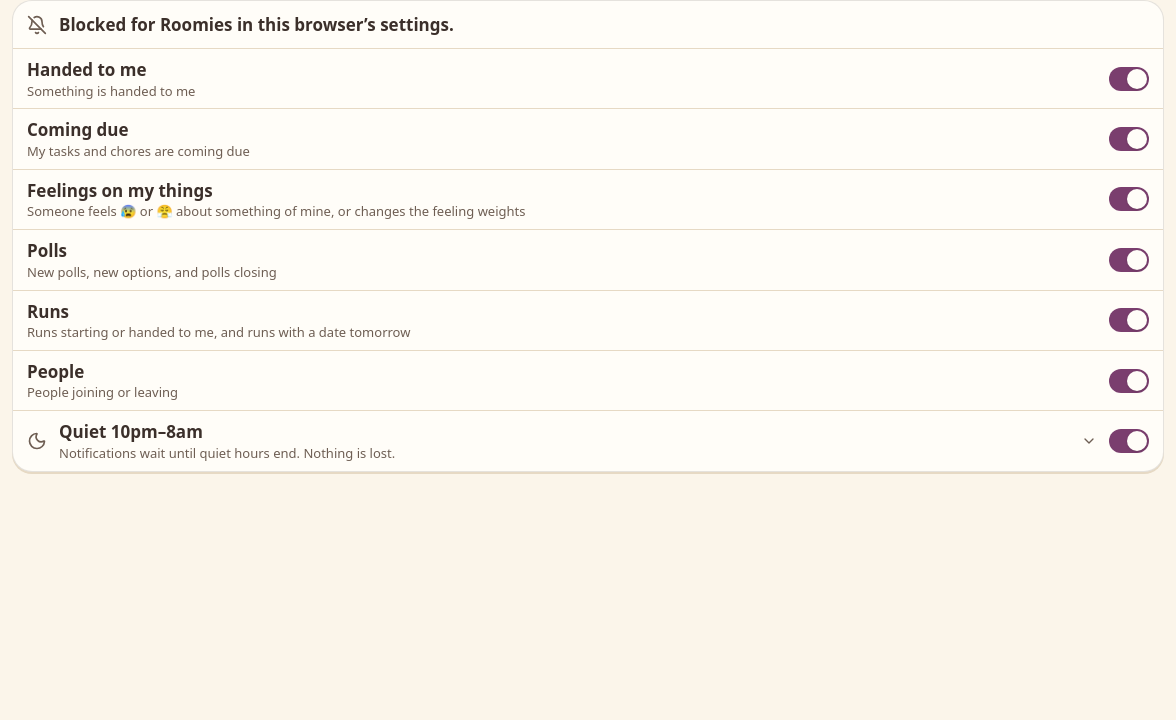
Test: NotificationsScreen (T61: one section) › keeps quiet hours to one row: edit inline, or switch them off
Expected: the field labelled "From" is not shown
Click the button "Quiet 10pm–8am" at (131, 432), box [59,411,1097,471]
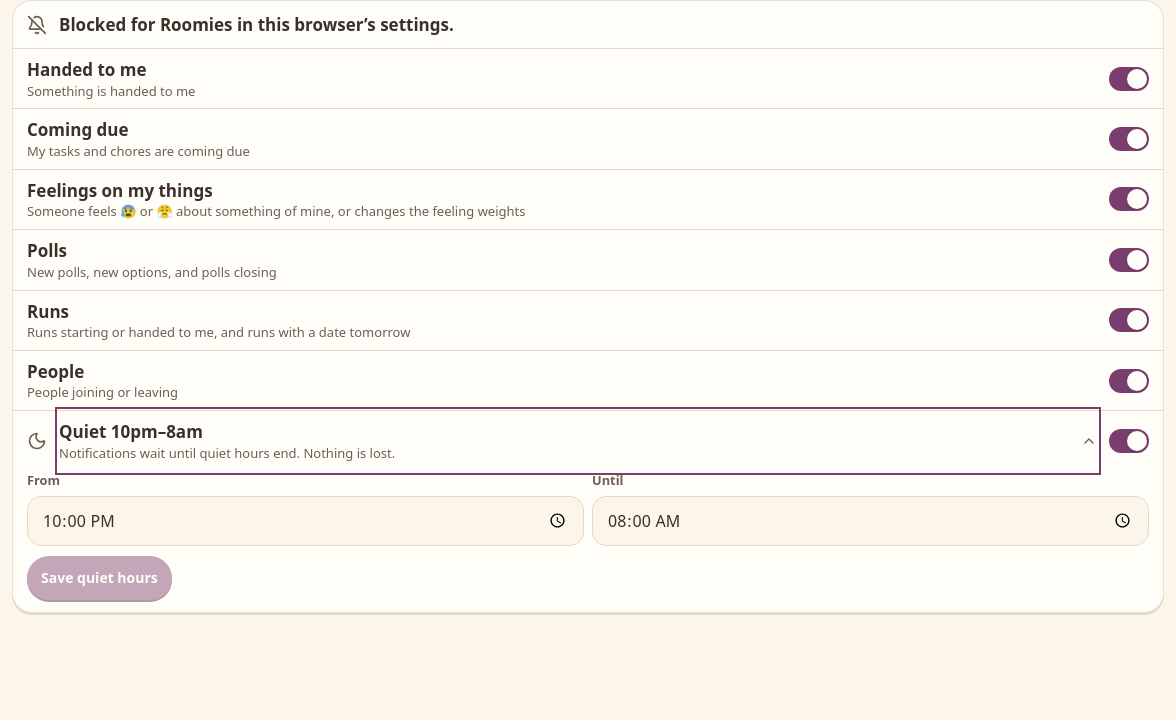
Expected: the button "Quiet 10pm–8am" is expanded, [59,411,1097,471]
Replace the text in the time field labelled "From" with "23:00" at (306, 521), box [27,496,584,546]
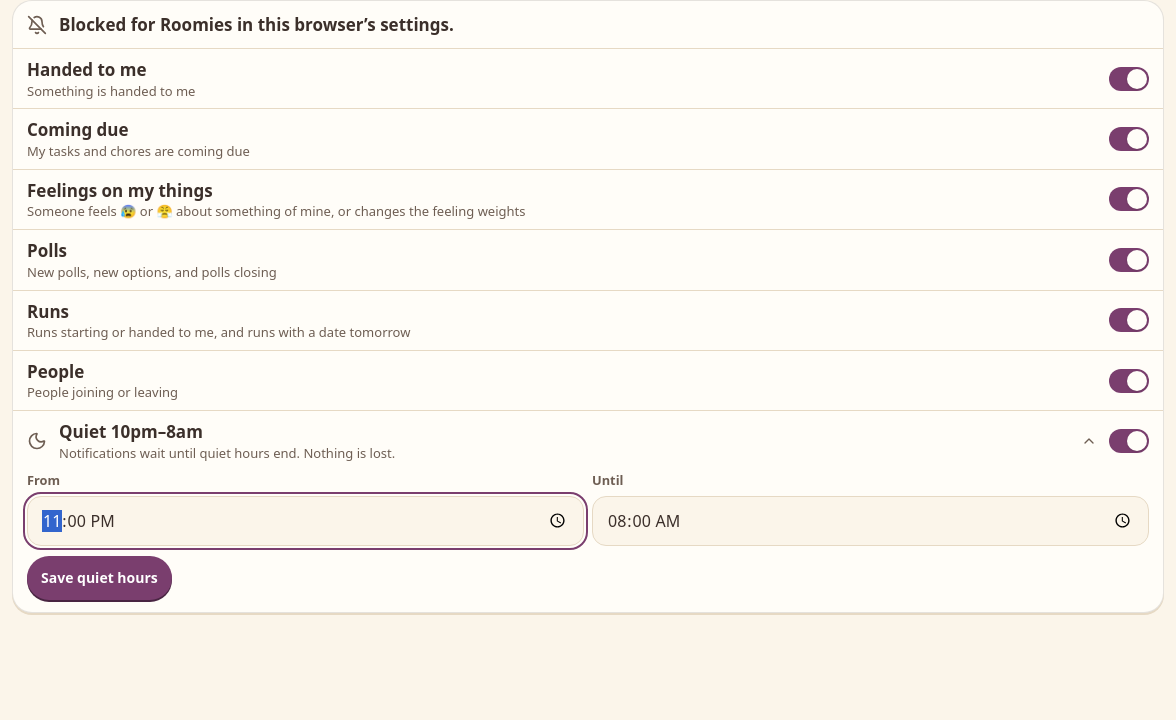
Click the button "Save quiet hours" at (99, 578), box [27,556,172,600]
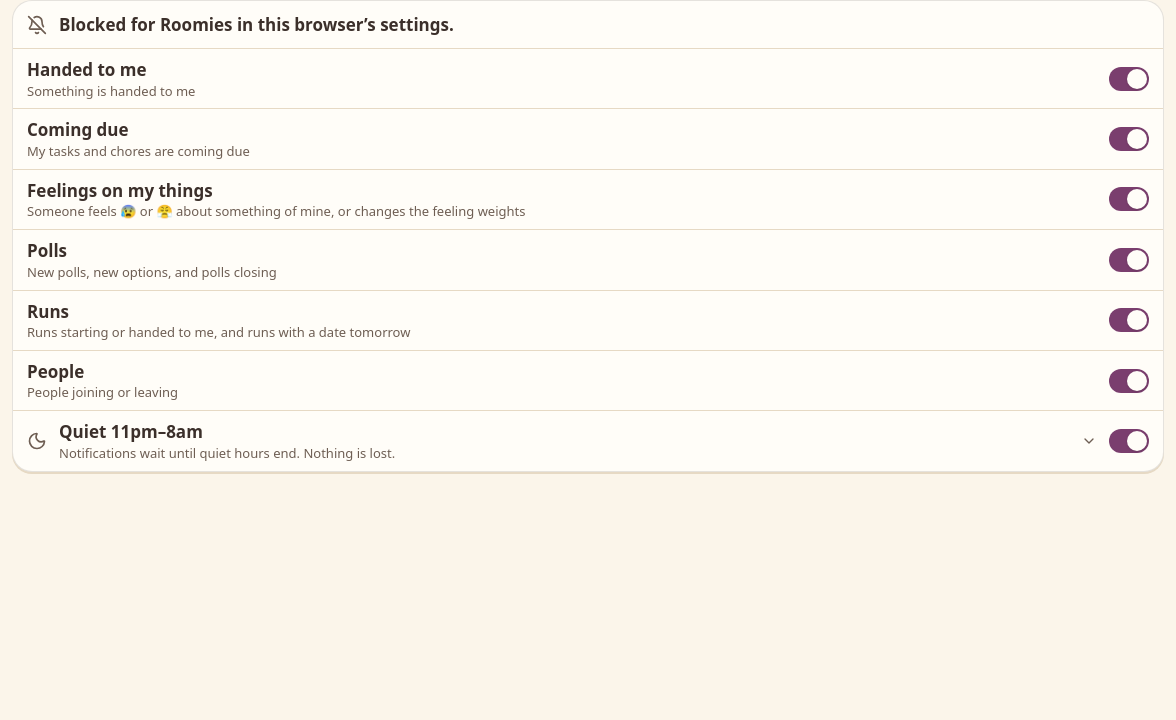
Expected: the button "Quiet 11pm–8am" is shown, [59,411,1097,471]
Expected: the label labelled "From" is gone
Click the switch named "Quiet hours" at (1129, 441), box [1109,417,1149,465]
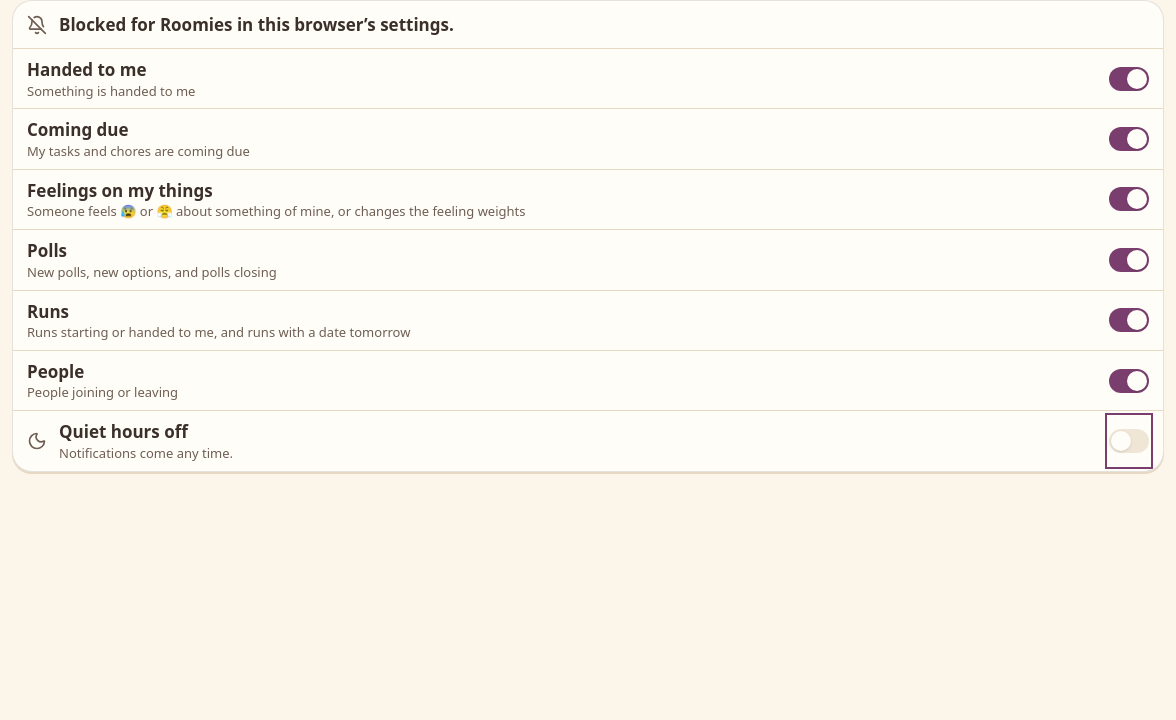
Expected: the text "Quiet hours off" is shown, [59,420,188,443]
